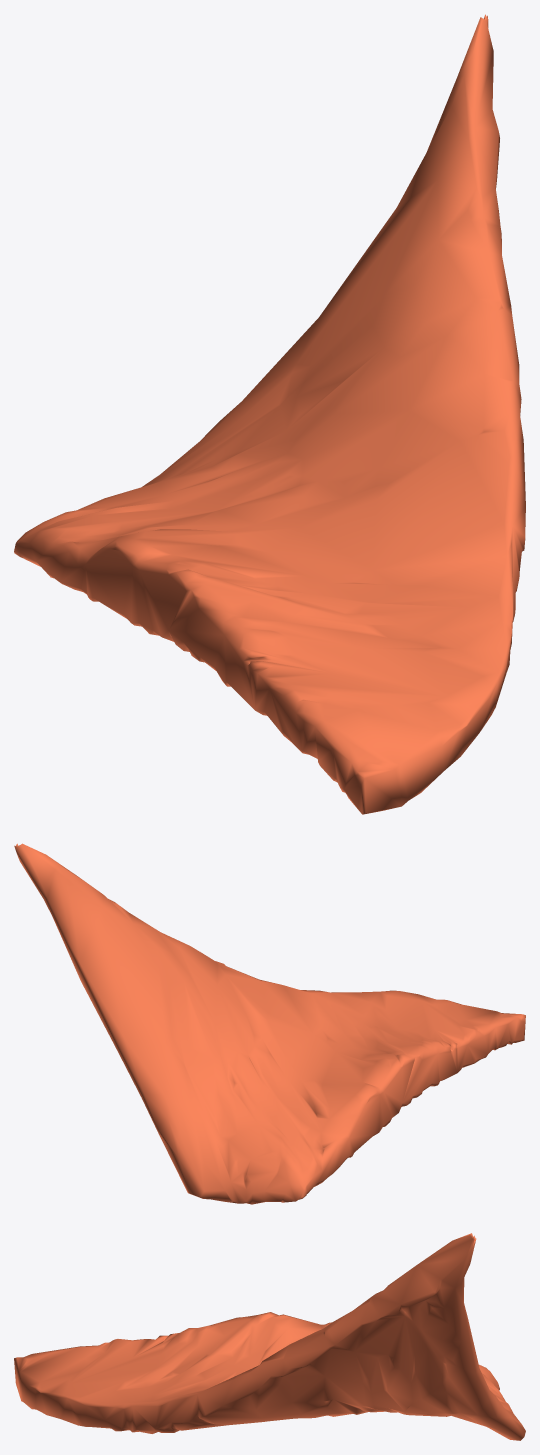
File: Mylohyoid_left.glb
The picture shows the model from 3 angles, top to bottom: view 1: azimuth 30°, elevation 25°; view 2: azimuth 150°, elevation 25°; view 3: azimuth 270°, elevation 25°; orthographic projection. The views are drawn at different scales.
Parts seen in each view (by area): view 1: Mylohyoid_muscle.l_Generated_Mesh_From_X3D.339; view 2: Mylohyoid_muscle.l_Generated_Mesh_From_X3D.339; view 3: Mylohyoid_muscle.l_Generated_Mesh_From_X3D.339.
Part boxes in pixels (x1,y1,x2,y2): Mylohyoid_muscle.l_Generated_Mesh_From_X3D.339: [14, 14, 525, 814]; Mylohyoid_muscle.l_Generated_Mesh_From_X3D.339: [14, 843, 525, 1204]; Mylohyoid_muscle.l_Generated_Mesh_From_X3D.339: [14, 1233, 525, 1440].
Bounding box in the file's own units: 0.027 × 0.0251 × 0.0378.
